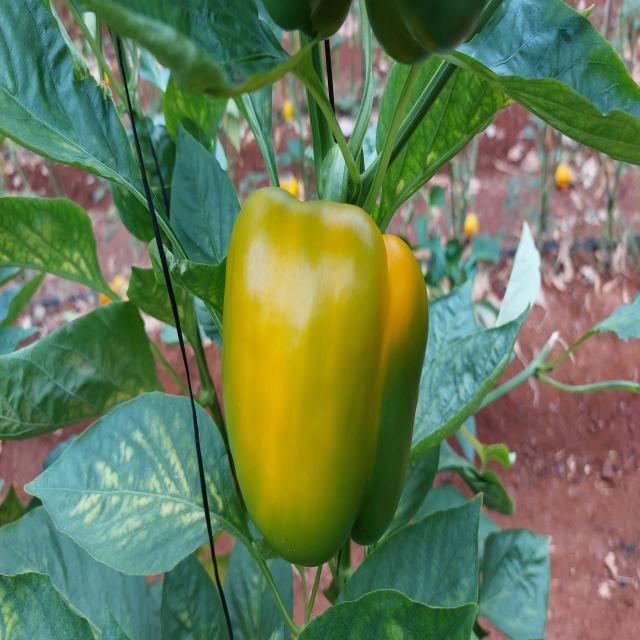GreenishYellow--Can-be-Harvested: (216, 148, 443, 582)
